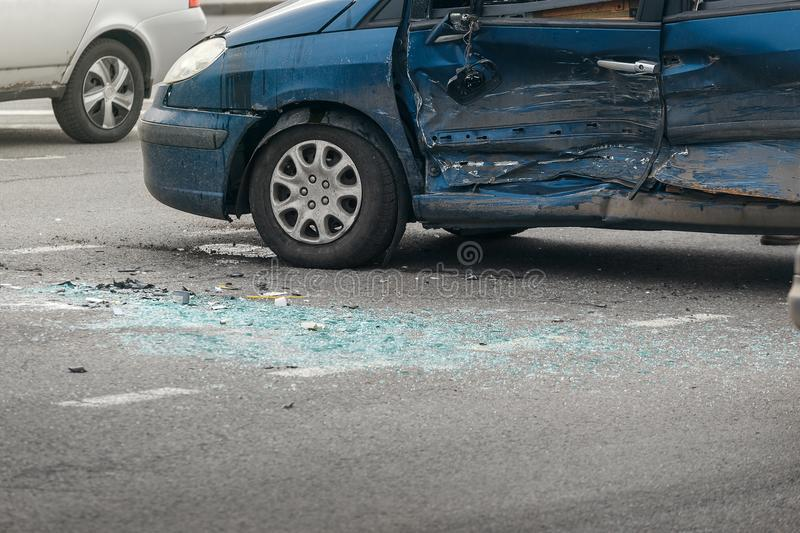doorouter-dent: (387, 0, 656, 238), (615, 1, 799, 237)
